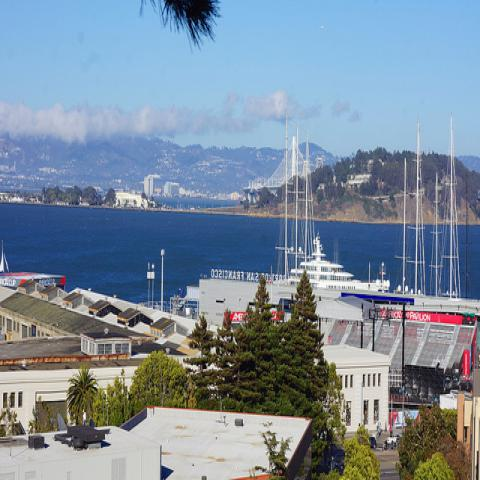car: (368, 436, 377, 448)
